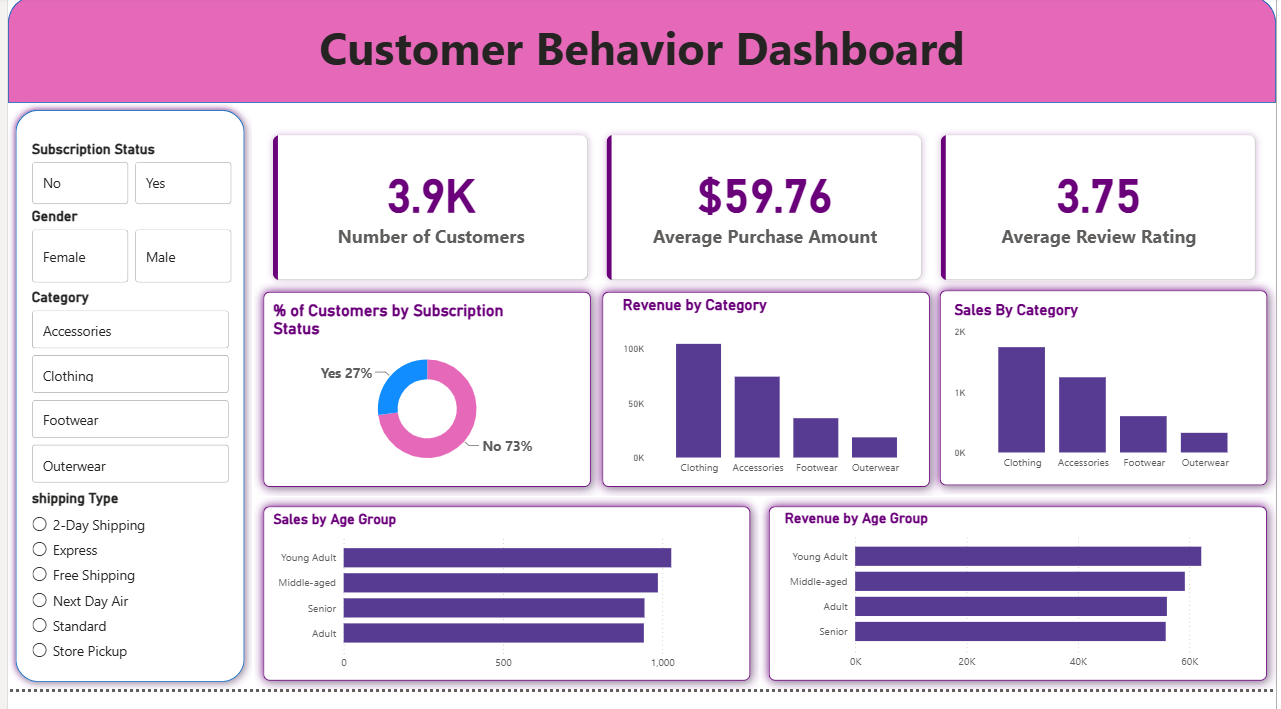

The page's visual inventory and layout, read from the dashboard file:
{"tool":"powerbi","page":{"name":"Page 1","canvas":[1500,820],"ordinal":0},"visuals":[{"type":"cardVisual","fields":{"Data":["public customer.Number of Customers","public customer.Average Purchase Amount","public customer.Average Review Rating"]},"box":[290.6,141.5,1209.4,217],"z":0},{"type":"shape","box":[0,0,1500,126.4],"z":1000},{"type":"textbox","box":[0,18.9,1500,107.5],"z":2000},{"type":"shape","box":[290.6,339.6,409.4,252.8],"z":3000},{"type":"donutChart","title":"% of Customers by Subscription Status","fields":{"Category":["public customer.subscription_status"],"Y":["CountNonNull(public customer.customer_id)"]},"box":[309.4,360.4,373.6,207.5],"z":4000},{"type":"shape","box":[0,126.4,288.7,694.3],"z":7000},{"type":"advancedSlicerVisual","title":"Subscription Status","fields":{"Values":["public customer.subscription_status"]},"box":[22.6,169.8,247.2,81.1],"z":8000},{"type":"advancedSlicerVisual","title":"Gender","fields":{"Values":["public customer.gender"]},"box":[22.6,250.9,247.2,94.3],"z":9000},{"type":"advancedSlicerVisual","title":"Category","fields":{"Values":["public customer.category"]},"box":[22.6,345.3,243.4,237.7],"z":10000},{"type":"listSlicer","title":"shipping Type","fields":{"Values":["public customer.shipping_type"]},"box":[22.6,583,243.4,222.6],"z":11000},{"type":"shape","box":[290.6,592.5,598.1,228.3],"z":12000},{"type":"shape","box":[888.7,592.5,611.3,228.3],"z":13000},{"type":"clusteredBarChart","title":"Sales by Age Group","fields":{"Category":["public customer.age_group"],"Y":["CountNonNull(public customer.customer_id)"]},"box":[309.4,609.4,560.4,198.1],"z":14000},{"type":"clusteredBarChart","title":"Revenue by Age Group","fields":{"Category":["public customer.age_group"],"Y":["Sum(public customer.purchase_amount)"]},"box":[913.2,607.5,564.2,198.1],"z":15000},{"type":"shape","box":[692.5,339.6,409.4,252.8],"z":16000},{"type":"shape","box":[1090.6,337.7,409.4,252.8],"z":17000},{"type":"clusteredColumnChart","title":"Revenue by Category","fields":{"Y":["Sum(public customer.purchase_amount)"],"Category":["public customer.category"]},"box":[722.6,354.7,364.2,220.8],"z":17001},{"type":"clusteredColumnChart","title":"Sales By Category","fields":{"Category":["public customer.category"],"Y":["CountNonNull(public customer.customer_id)"]},"box":[1115.1,360.4,364.2,209.4],"z":17002}]}

Visuals, with their boxes in screenshot pixels (x1, y1, x2, y2), scaled from the page's 1500x820 canvas onto the 1281x709 screenshot:
cardVisual - public customer.Number of Customers x public customer.Average Purchase Amount: locate(248, 122, 1280, 310)
shape: locate(0, 0, 1280, 109)
textbox: locate(0, 16, 1280, 109)
shape: locate(248, 294, 598, 512)
"% of Customers by Subscription Status" donutChart: locate(264, 312, 583, 491)
shape: locate(0, 109, 247, 708)
"Subscription Status" advancedSlicerVisual: locate(19, 147, 230, 217)
"Gender" advancedSlicerVisual: locate(19, 217, 230, 298)
"Category" advancedSlicerVisual: locate(19, 299, 227, 504)
"shipping Type" listSlicer: locate(19, 504, 227, 697)
shape: locate(248, 512, 759, 708)
shape: locate(759, 512, 1280, 708)
"Sales by Age Group" clusteredBarChart: locate(264, 527, 743, 698)
"Revenue by Age Group" clusteredBarChart: locate(780, 525, 1262, 697)
shape: locate(591, 294, 941, 512)
shape: locate(931, 292, 1280, 511)
"Revenue by Category" clusteredColumnChart: locate(617, 307, 928, 498)
"Sales By Category" clusteredColumnChart: locate(952, 312, 1263, 493)
